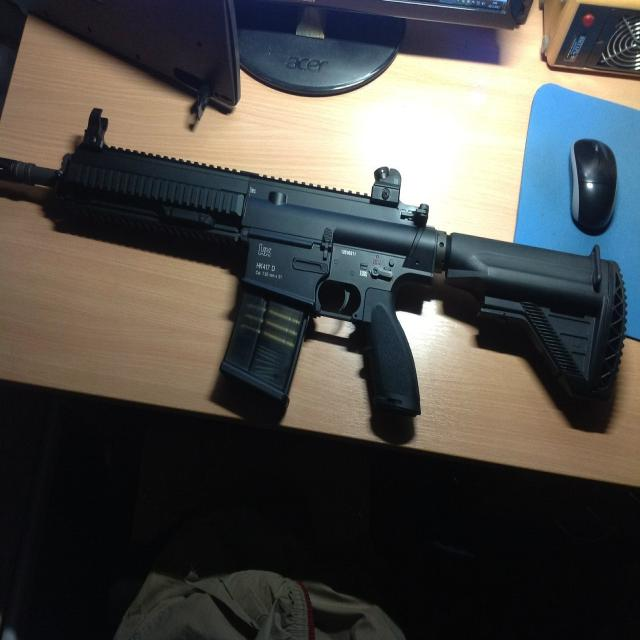firearm: (0, 105, 629, 425)
